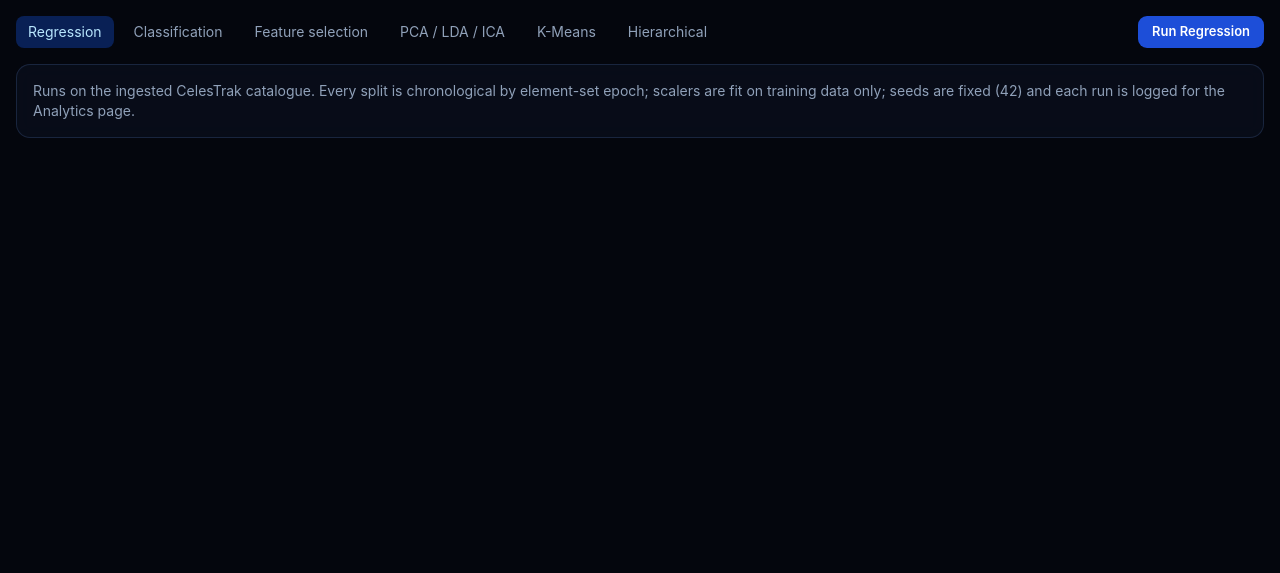
Test: every page renders against real API payloads › ML Lab tab Feature selection
Click the button "Feature selection": x=311, y=32 [242, 16, 380, 48]
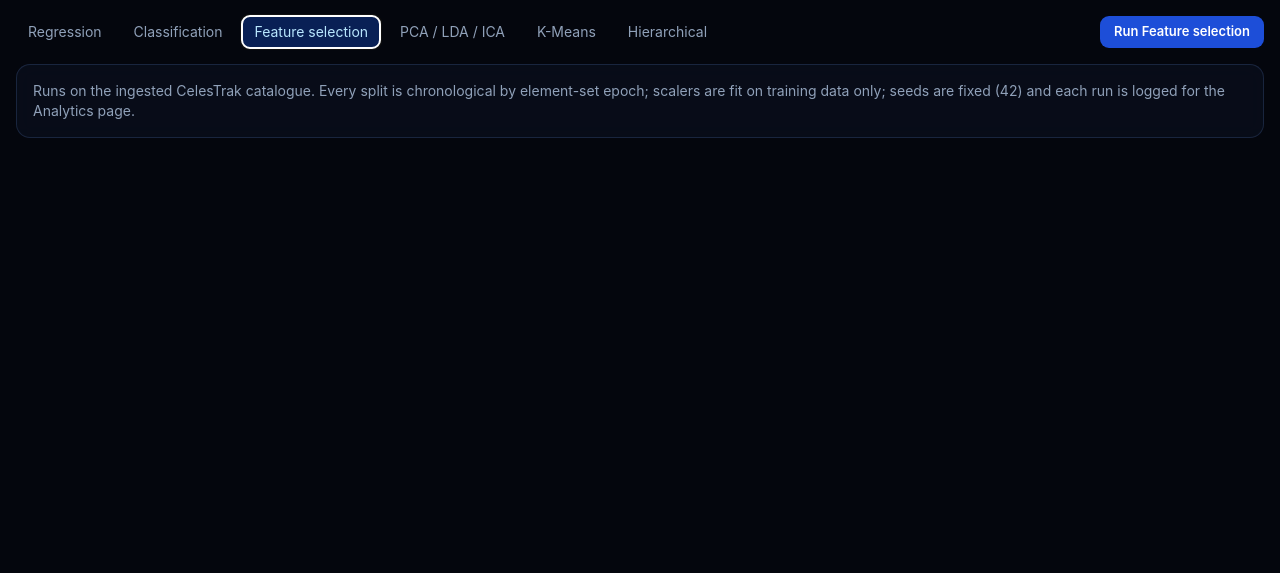
Click the button "Run Feature selection": x=1182, y=32 [1100, 16, 1264, 48]
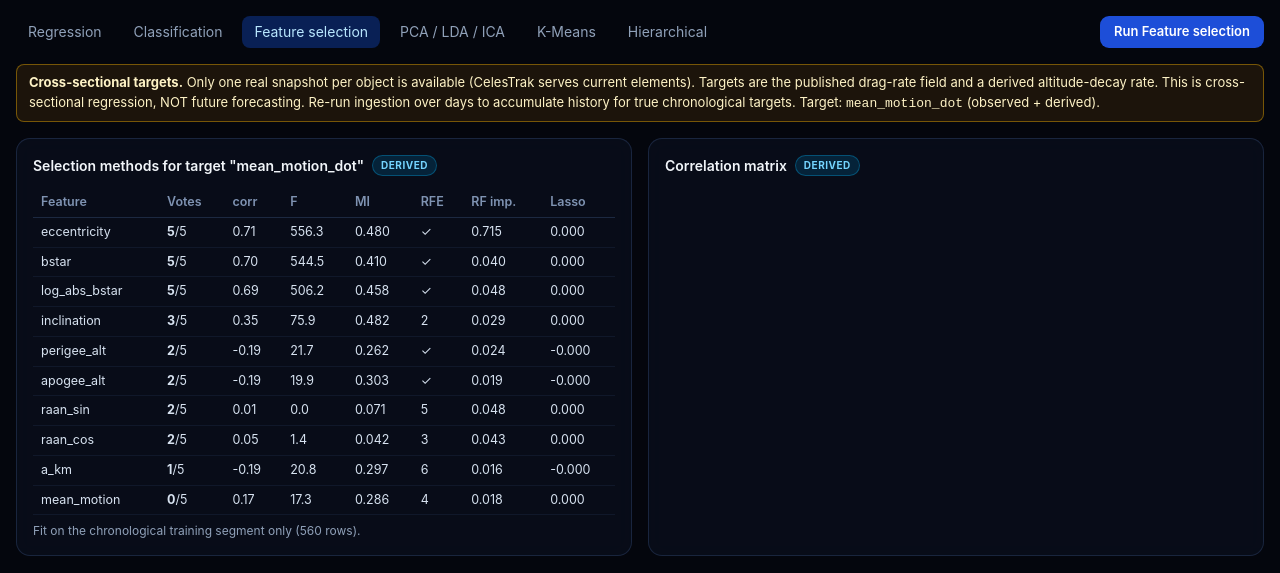
Expected: the heading "Selection methods for target \"mean_motion_dot\"" is shown, [33, 156, 364, 176]
